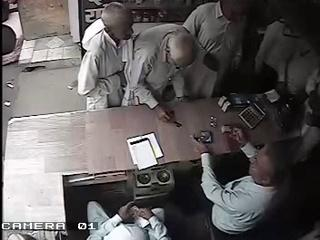Normal: (192, 91, 314, 239), (121, 24, 199, 124), (181, 0, 253, 100), (86, 200, 172, 240)
shoplifting: (76, 2, 136, 111)
